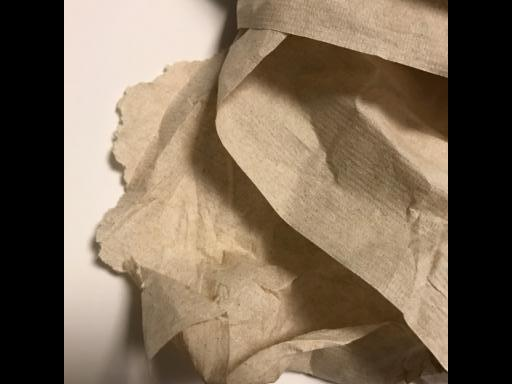trash: (90, 2, 447, 383)
